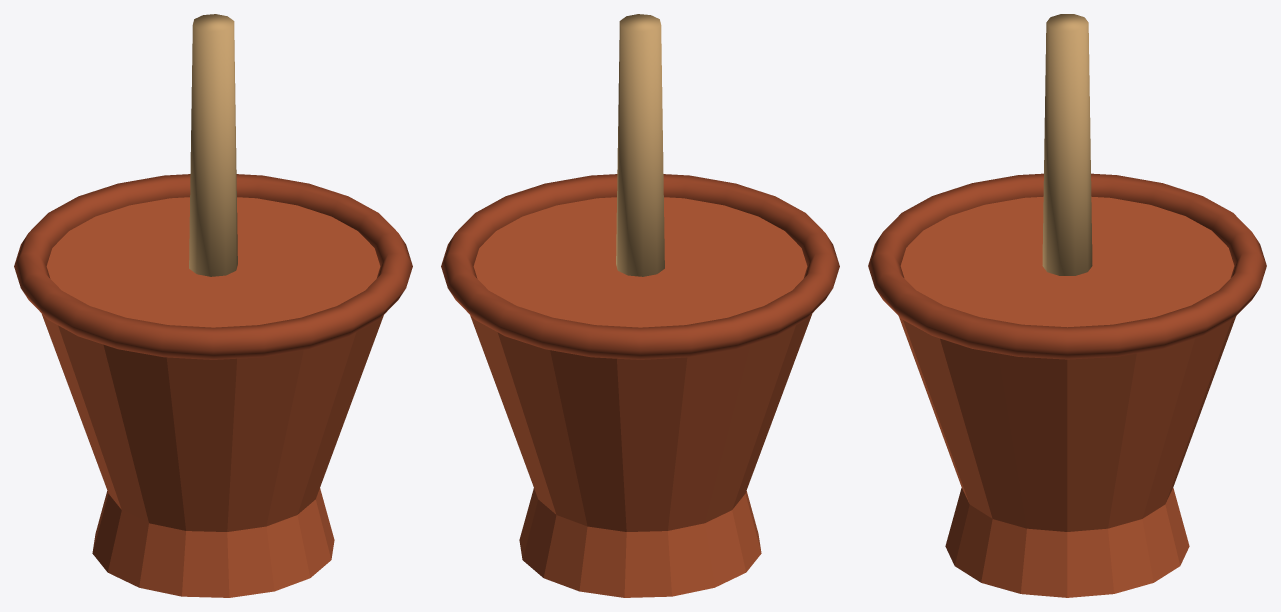
The model's file is mortar.glb.
3 renders of one model, left to right at view 1: azimuth 30°, elevation 25°; view 2: azimuth 150°, elevation 25°; view 3: azimuth 270°, elevation 25°, orthographic.
Visible parts, largest first — view 1: Bowl, PestleMesh; view 2: Bowl, PestleMesh; view 3: Bowl, PestleMesh.
Boxes of the visible parts, box(x1,y1,x2,y2) form: Bowl: box(14, 174, 412, 597); PestleMesh: box(189, 14, 237, 276); Bowl: box(441, 174, 839, 597); PestleMesh: box(616, 14, 664, 276); Bowl: box(868, 173, 1266, 597); PestleMesh: box(1042, 14, 1092, 275).
Size of the model in its own units: 0.49 by 0.71 by 0.49.
